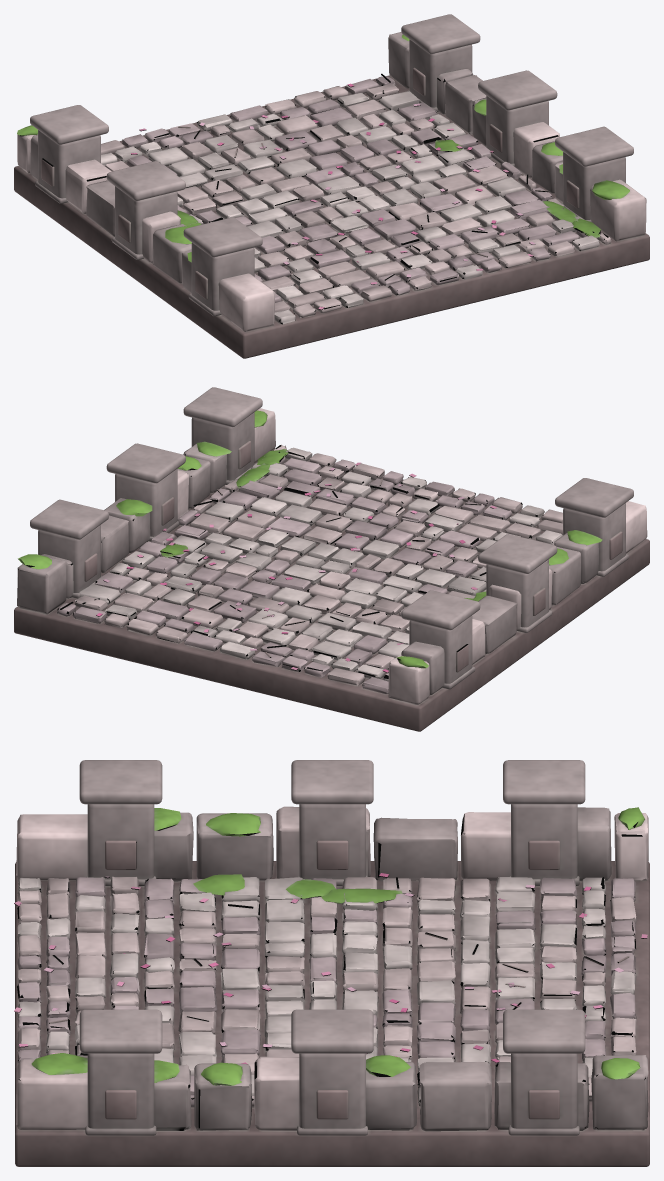
File: cb_path_segment.glb
3 renders of one model, top to bottom at view 1: azimuth 30°, elevation 25°; view 2: azimuth 150°, elevation 25°; view 3: azimuth 270°, elevation 25°, orthographic. The views are drawn at different scales.
Visible parts, largest first — view 1: cb_path_segment; view 2: cb_path_segment; view 3: cb_path_segment.
Part boxes in pixels (<box>): cb_path_segment: <box>14,14,649,358</box>; cb_path_segment: <box>14,387,649,731</box>; cb_path_segment: <box>14,760,649,1166</box>.
Bounding box in the file's own units: 10.6 × 2.27 × 10.02.
9 materials, 9 textured.
